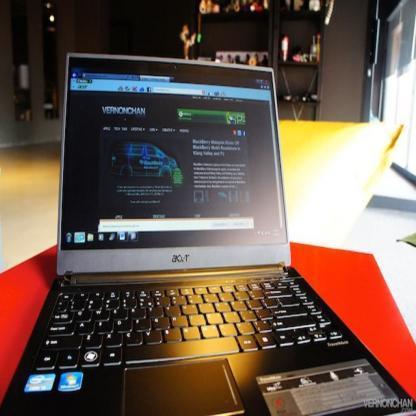board: (0, 48, 415, 415)
